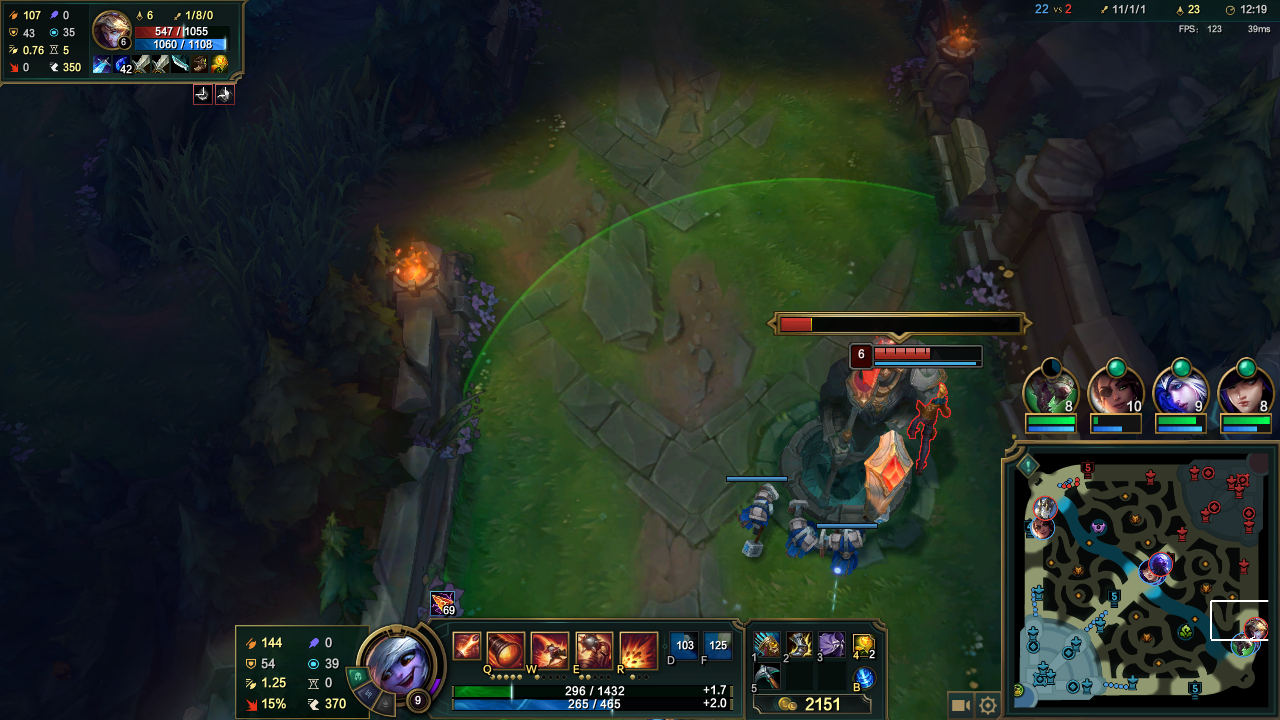DFFYT: (770, 307, 932, 531)
DFYX: (870, 344, 930, 368)
WFXB: (732, 481, 786, 547), (818, 524, 871, 578), (782, 510, 827, 565)
Yita: (1184, 676, 1211, 702)
